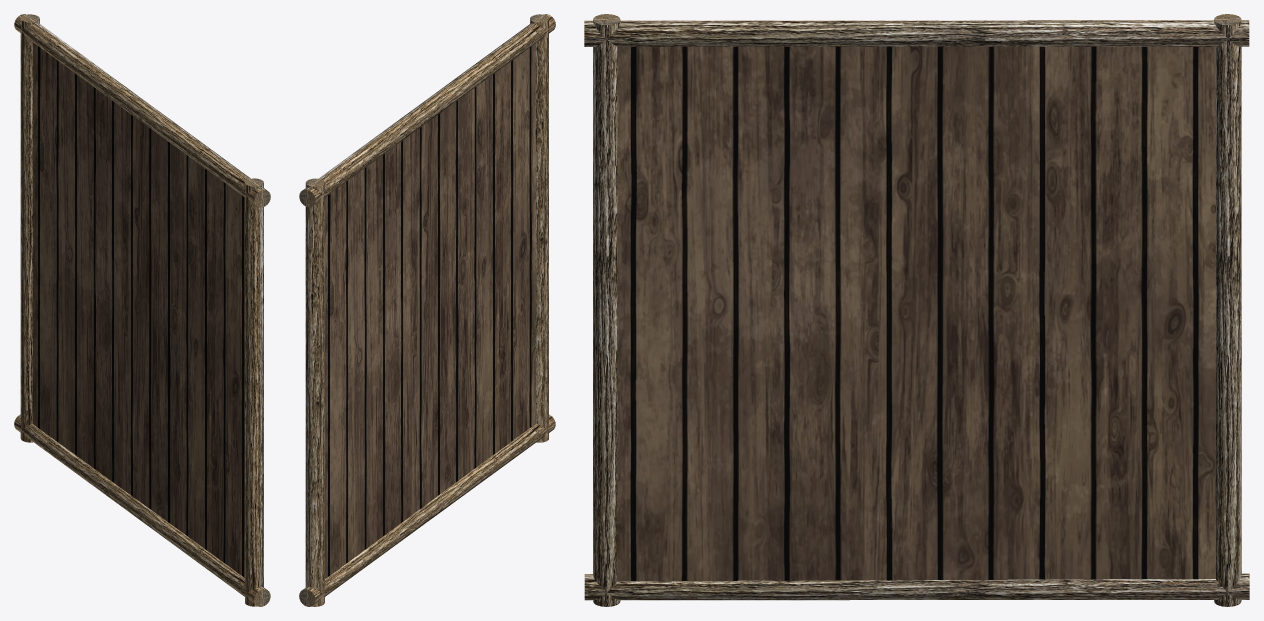
The model's file is wood wall.gltf.
3 views of the same model, side by side, from view 1: azimuth 30°, elevation 25°; view 2: azimuth 150°, elevation 25°; view 3: azimuth 270°, elevation 25° (orthographic). The views are drawn at different scales.
Visible parts, largest first — view 1: Küp, Silindir2, Silindir3, Silindir1, Silindir; view 2: Küp, Silindir1, Silindir2, Silindir3, Silindir; view 3: Küp, Silindir3, Silindir1, Silindir2, Silindir.
Boxes of the visible parts, x1=… form: Küp: x1=32, y1=42, x2=244, y2=577; Silindir2: x1=245, y1=178, x2=263, y2=606; Silindir3: x1=14, y1=14, x2=270, y2=207; Silindir1: x1=20, y1=14, x2=39, y2=442; Silindir: x1=14, y1=414, x2=270, y2=606; Küp: x1=325, y1=43, x2=535, y2=578; Silindir1: x1=305, y1=178, x2=324, y2=606; Silindir2: x1=530, y1=14, x2=548, y2=442; Silindir3: x1=299, y1=14, x2=555, y2=207; Silindir: x1=299, y1=414, x2=555, y2=606; Küp: x1=617, y1=46, x2=1215, y2=581; Silindir3: x1=584, y1=20, x2=1249, y2=46; Silindir1: x1=1214, y1=14, x2=1241, y2=606; Silindir2: x1=593, y1=14, x2=620, y2=606; Silindir: x1=584, y1=573, x2=1249, y2=600.
Bounding box in the file's own units: 0.0866 × 2.1 × 2.18.
5 materials, 5 textured.
